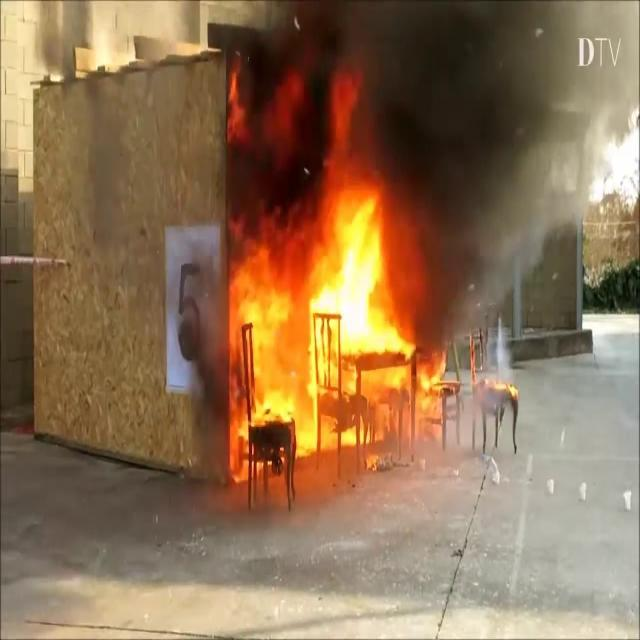Fire: (224, 138, 438, 466)
Smoke: (223, 0, 634, 246)
